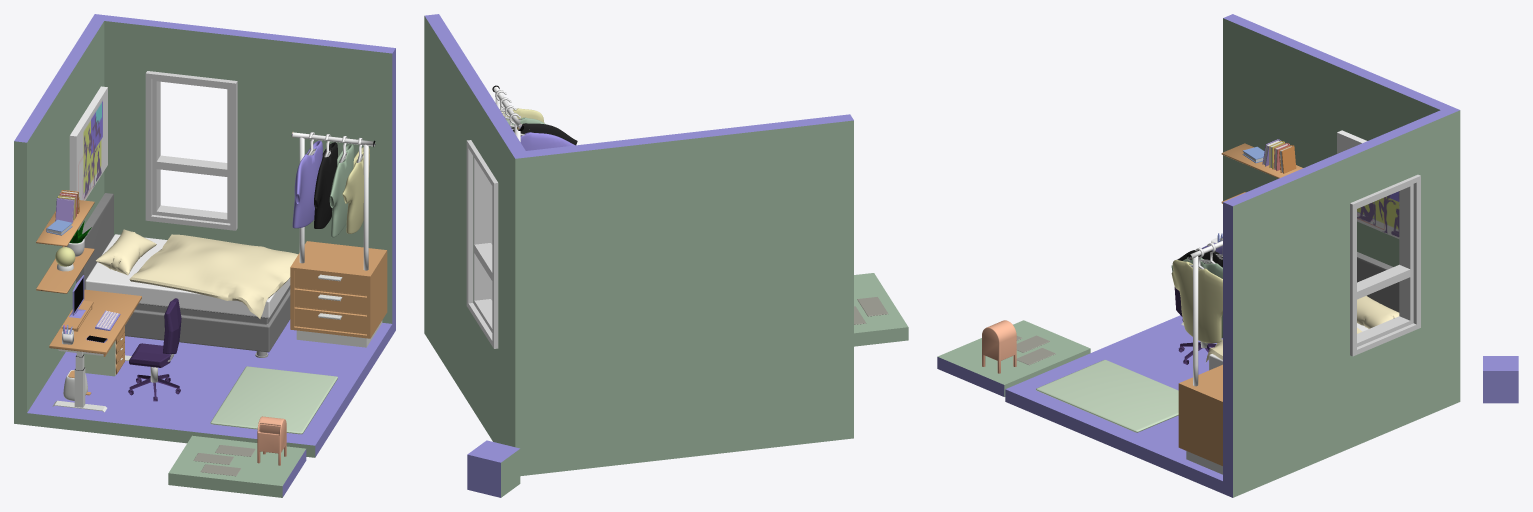
The model's file is Final_Bedroom.glb.
The picture shows the model from 3 angles, left to right: view 1: azimuth 30°, elevation 25°; view 2: azimuth 150°, elevation 25°; view 3: azimuth 270°, elevation 25°; orthographic projection. The views are drawn at different scales.
Parts seen in each view (by area): view 1: Body, Bed, Clothes, Floor Items, Mini Floor, Desks, Shelves, Chair, Mailbox, Table Stuff, Computer; view 2: Body, Cube, Mini Floor, Clothes; view 3: Body, Bed, Floor Items, Clothes, Mini Floor, Shelves, Cube, Mailbox.
Boxes of the visible parts, x1=… form: Body: x1=14, y1=14, x2=395, y2=457; Bed: x1=76, y1=193, x2=387, y2=357; Clothes: x1=69, y1=86, x2=375, y2=270; Floor Items: x1=63, y1=326, x2=337, y2=434; Mini Floor: x1=168, y1=435, x2=306, y2=497; Desks: x1=49, y1=289, x2=141, y2=412; Shelves: x1=36, y1=190, x2=94, y2=293; Chair: x1=129, y1=298, x2=181, y2=367; Mailbox: x1=257, y1=416, x2=286, y2=465; Table Stuff: x1=61, y1=300, x2=120, y2=344; Computer: x1=69, y1=275, x2=85, y2=318; Body: x1=424, y1=14, x2=853, y2=476; Cube: x1=467, y1=440, x2=520, y2=497; Mini Floor: x1=854, y1=273, x2=908, y2=346; Clothes: x1=492, y1=85, x2=577, y2=150; Body: x1=1005, y1=14, x2=1460, y2=497; Bed: x1=1178, y1=252, x2=1399, y2=474; Floor Items: x1=1036, y1=341, x2=1215, y2=432; Clothes: x1=1171, y1=130, x2=1399, y2=386; Mini Floor: x1=937, y1=320, x2=1090, y2=396; Shelves: x1=1221, y1=139, x2=1303, y2=203; Cube: x1=1483, y1=356, x2=1518, y2=403; Mailbox: x1=982, y1=320, x2=1016, y2=373.
Size of the model in its own units: 37.62 by 26.6 by 48.05.
Materials: 38 (2 with a texture image).
